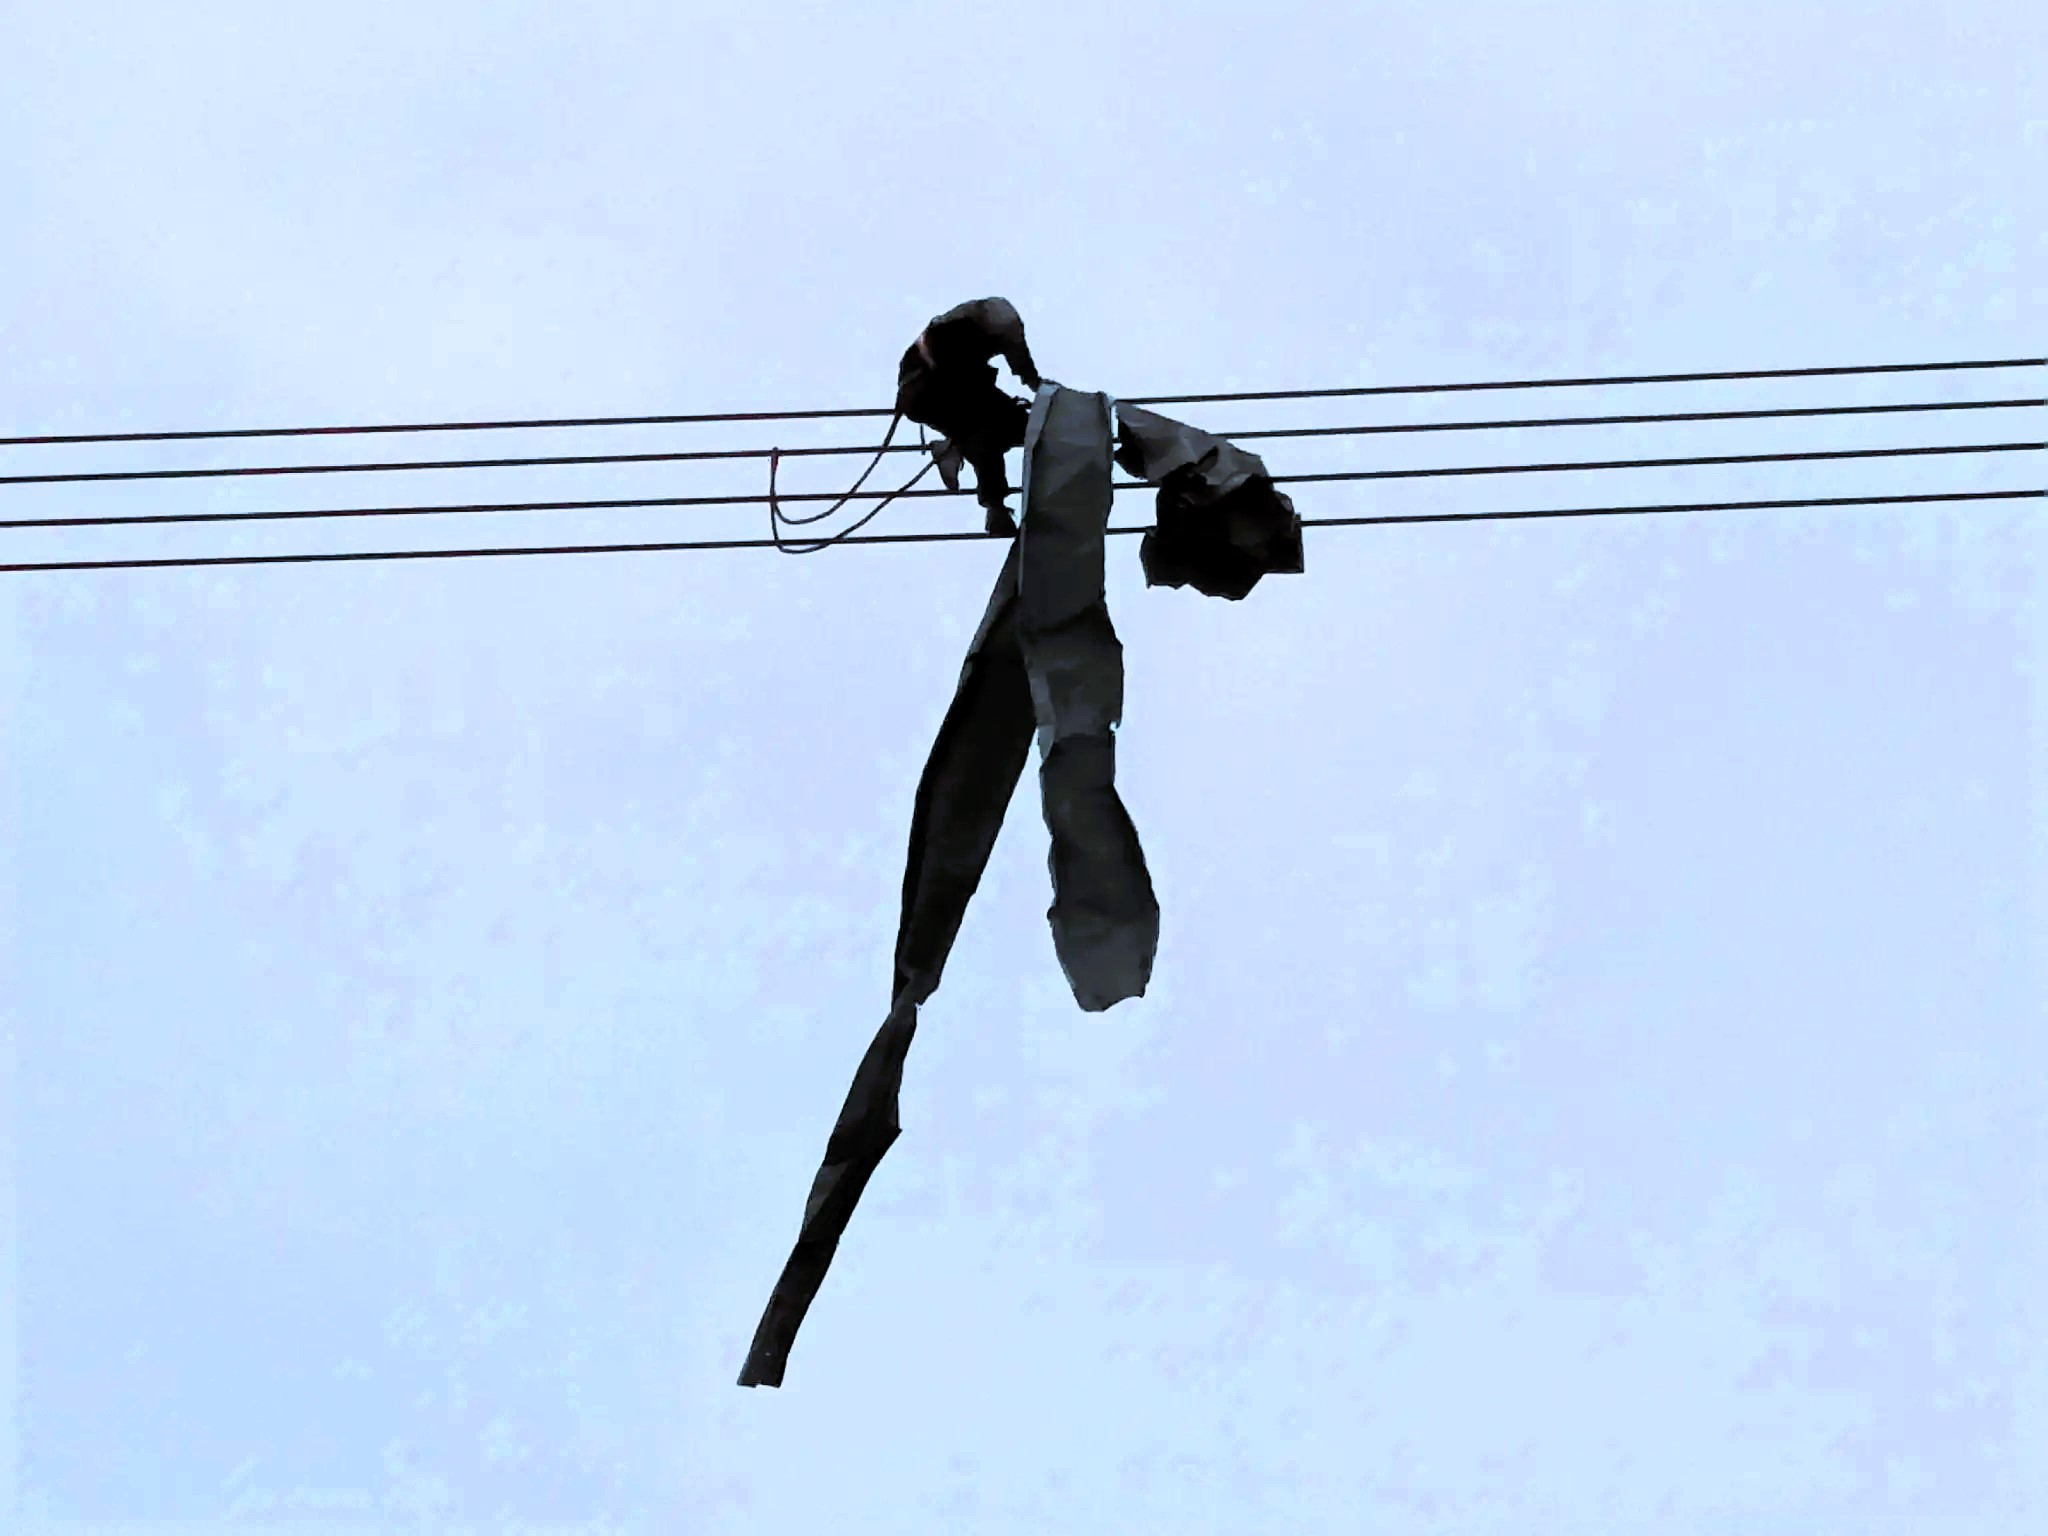wire foreign body: (735, 374, 1309, 1417)
